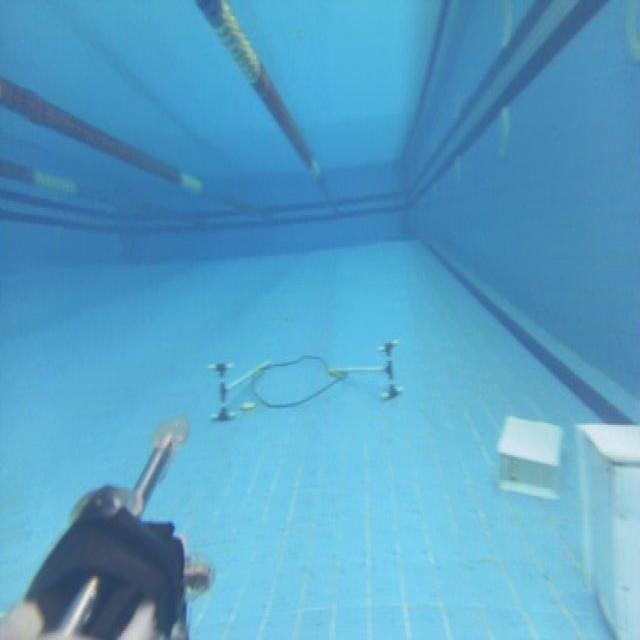Cube: (575, 410, 640, 640)
Cuboid: (495, 410, 564, 500)
